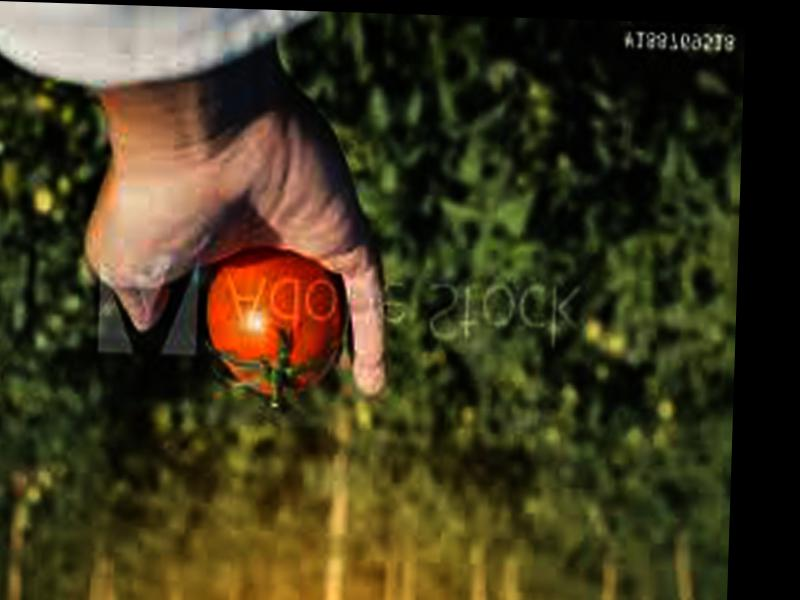Tomato: (207, 253, 348, 395)
